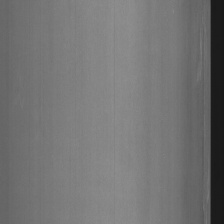silk_spot: (192, 11, 208, 90)
